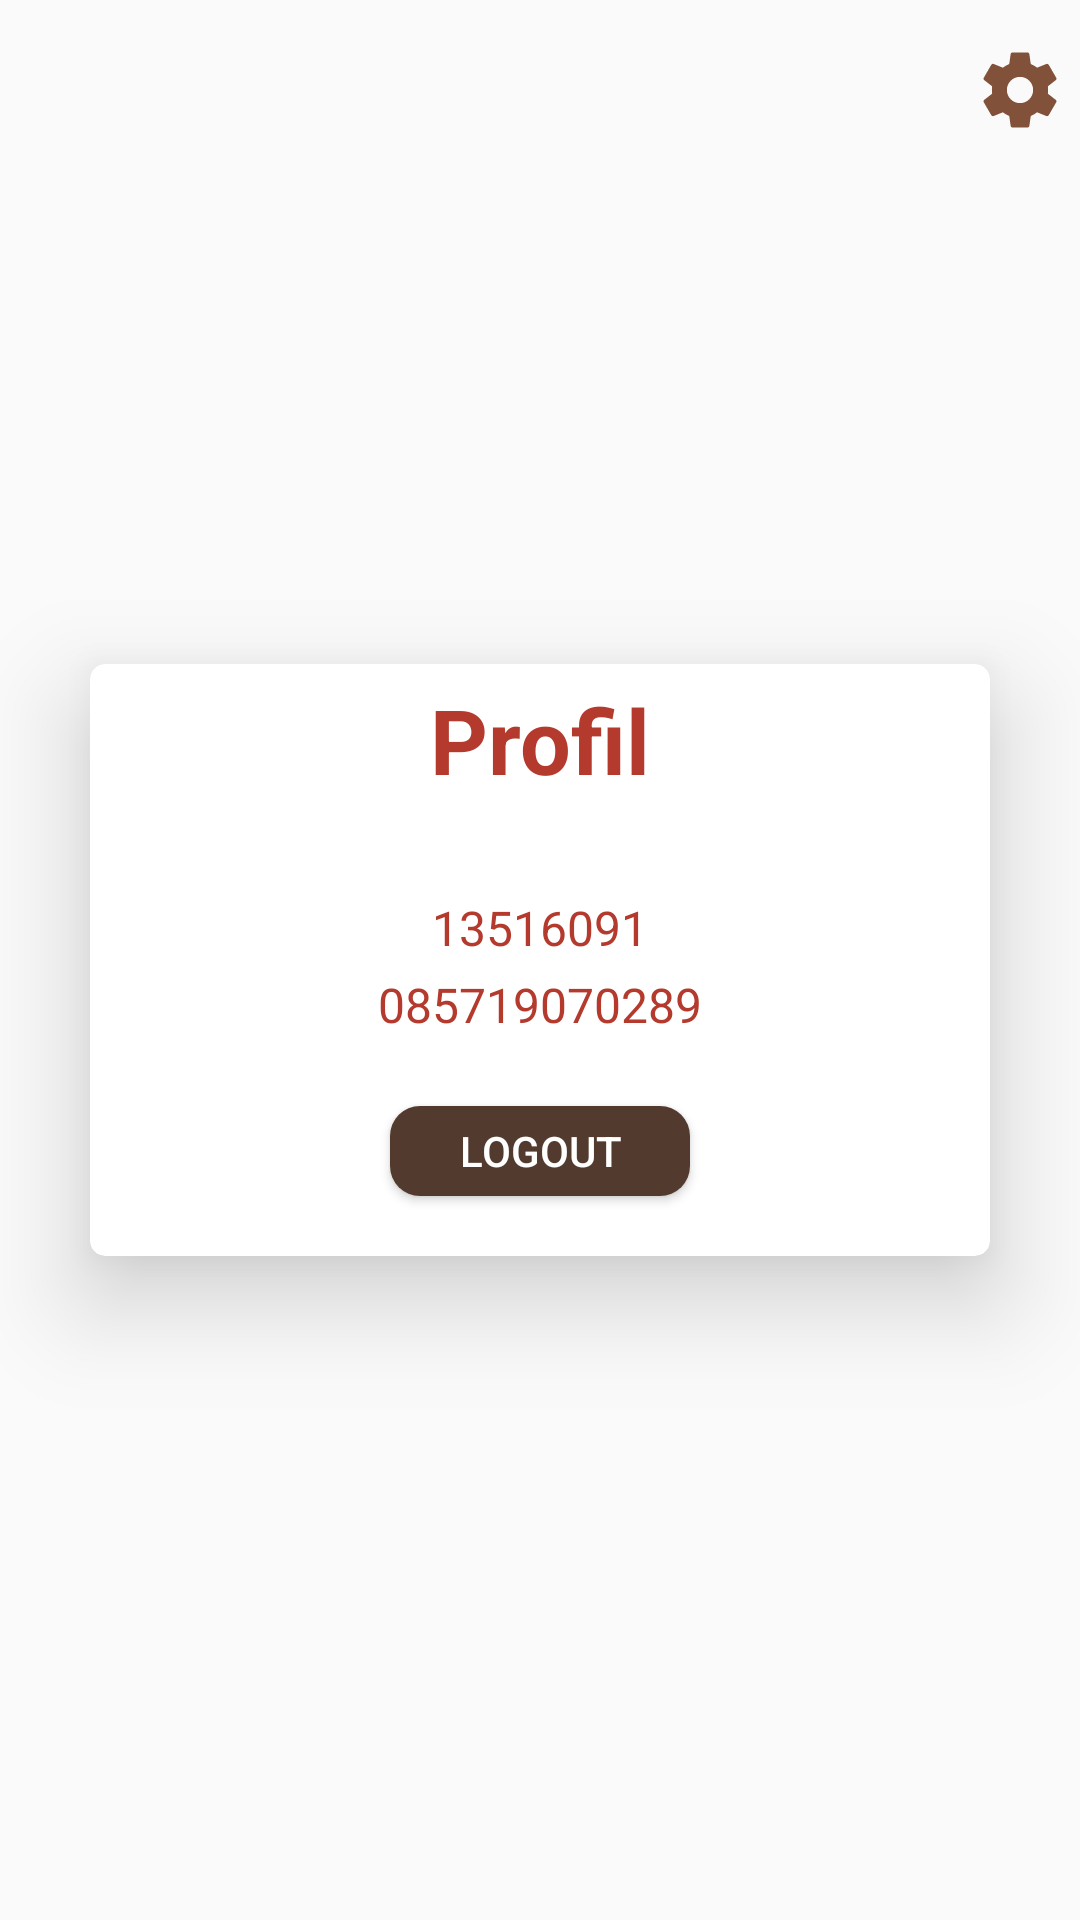

Icons on this 1080×1920 Android screen, each with its box as (x1, y1, x2, y2):
settings: (983, 52, 1057, 128)
